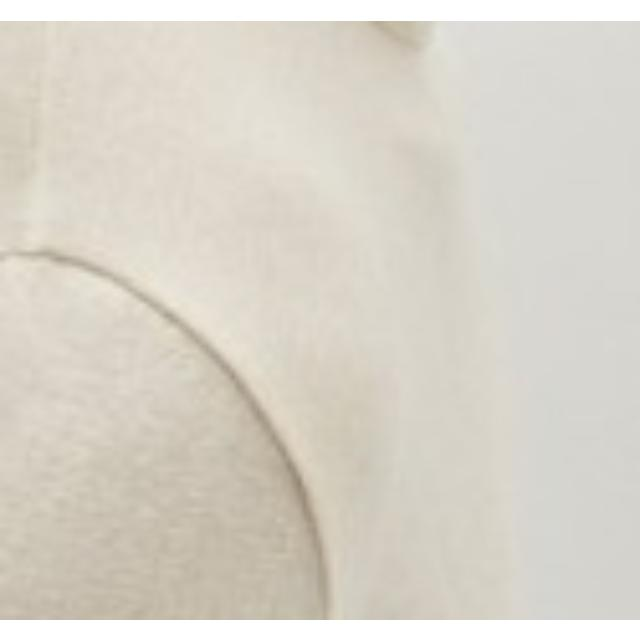silk: (0, 21, 542, 620)
